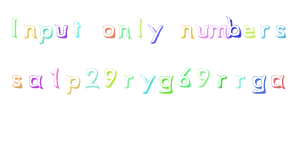1: (48, 66, 63, 90)
2: (84, 65, 101, 90)
6: (177, 65, 194, 89)
9: (103, 67, 119, 90), (195, 66, 211, 89)
I: (10, 15, 28, 40)
a: (27, 73, 45, 91), (270, 73, 287, 91)
b: (226, 13, 242, 40)
e: (242, 23, 257, 40)
g: (158, 74, 175, 96), (251, 74, 268, 96)
l: (135, 16, 146, 38)
m: (209, 22, 229, 41)
n: (179, 22, 196, 41), (117, 22, 132, 41), (22, 23, 38, 40)
o: (100, 22, 117, 40)
p: (38, 23, 53, 46), (65, 74, 81, 95)
r: (214, 72, 229, 90), (257, 23, 271, 41), (234, 72, 247, 90), (123, 72, 135, 89)
s: (272, 23, 288, 40), (9, 73, 24, 90)
t: (71, 19, 83, 39)
u: (195, 22, 210, 40), (54, 23, 69, 40)
y: (146, 22, 164, 45), (139, 73, 157, 96)
